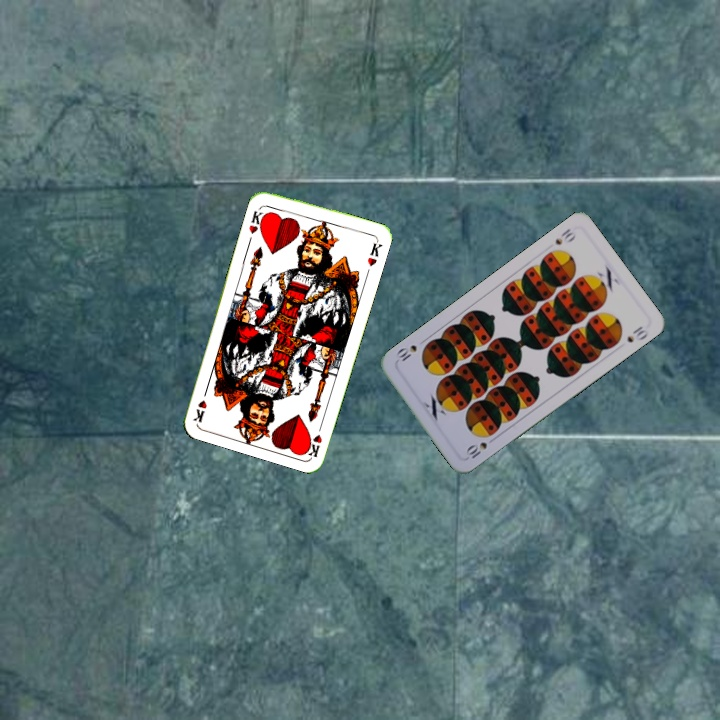HK: (302, 418, 326, 459), (245, 202, 269, 236)
S10: (461, 438, 490, 462), (551, 224, 579, 248)
